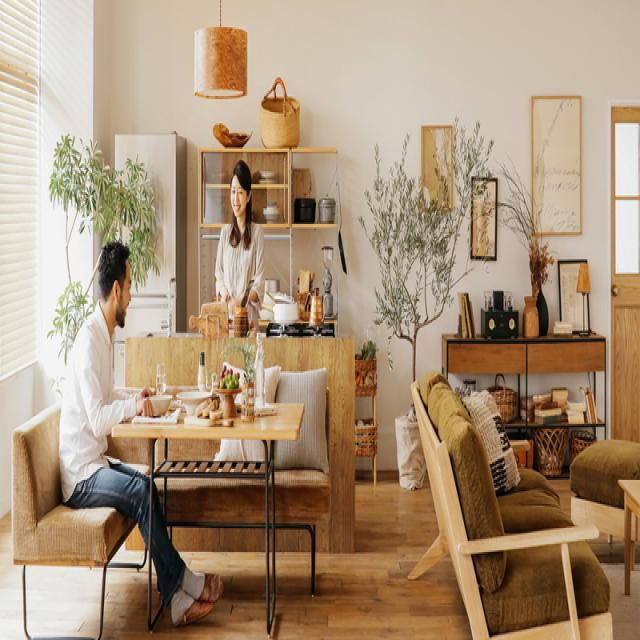vintage desk: (111, 400, 304, 640)
vintage sofa: (407, 361, 610, 640)
